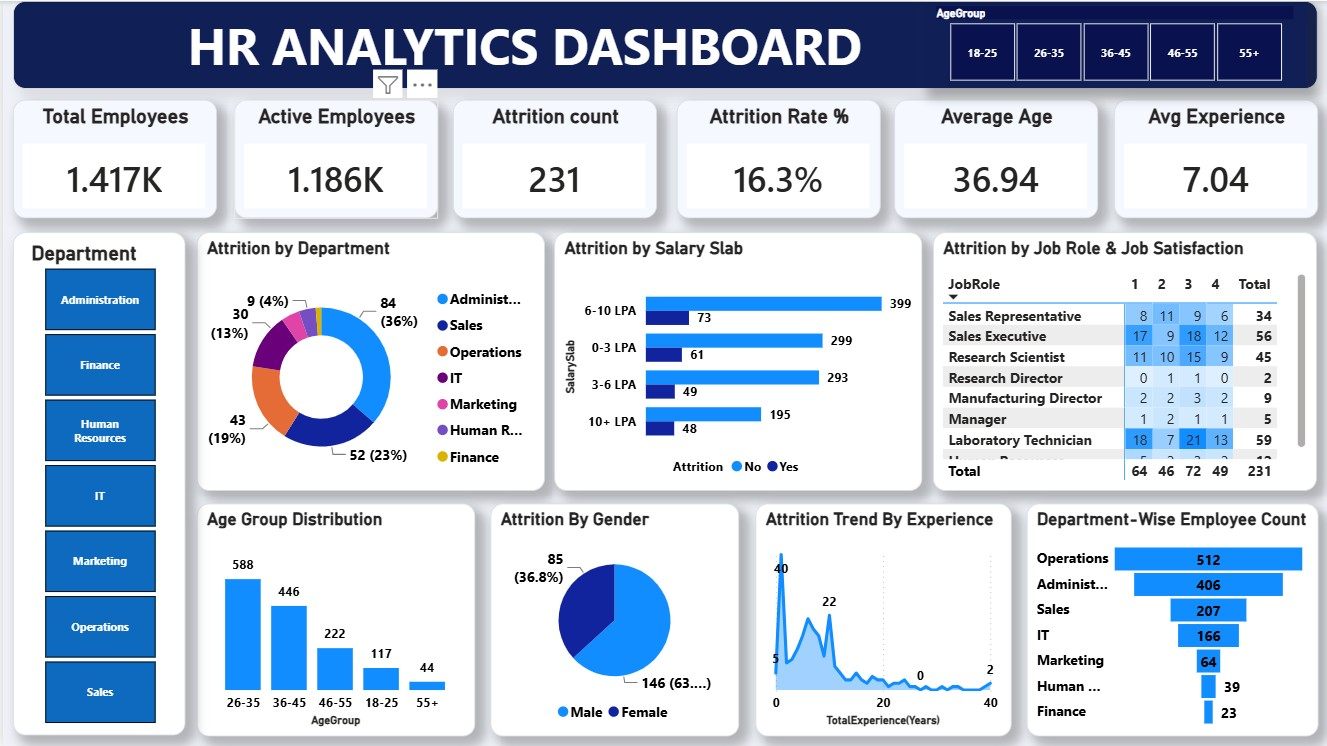

The page's visual inventory and layout, read from the dashboard file:
{"tool":"powerbi","page":{"name":"Page 1","canvas":[1280,720],"ordinal":0},"visuals":[{"type":"textbox","box":[10,0,1259,85],"z":0},{"type":"cardVisual","title":"Total Employees","fields":{"Data":["CountNonNull(HR_Analytics.EmpID)"]},"box":[9.7,95.3,196.6,114.6],"z":1000},{"type":"cardVisual","title":"Active Employees","fields":{"Data":["CountNonNull(HR_Analytics.EmployeeCount)"]},"box":[223.2,95.3,196.6,114.6],"z":2000},{"type":"cardVisual","title":"Attrition count","fields":{"Data":["Sum(HR_Analytics.AttritionsCount)"]},"box":[434.3,95.3,196.6,114.6],"z":3000},{"type":"cardVisual","title":"Attrition Rate %","fields":{"Data":["HR_Analytics.Attrition Rate %"]},"box":[650.3,95.3,196.6,114.6],"z":4000},{"type":"cardVisual","title":"Average Age","fields":{"Data":["Avg(HR_Analytics.Age)"]},"box":[860.2,95.3,196.6,114.6],"z":5000},{"type":"cardVisual","title":"Avg Experience","fields":{"Data":["Avg(HR_Analytics.YearsatCompany)"]},"box":[1072.5,95.3,196.6,114.6],"z":6000},{"type":"donutChart","title":"Attrition by Department","fields":{"Category":["HR_Analytics.Department"],"Y":["Sum(HR_Analytics.AttritionsCount)"]},"box":[186.6,223.7,336.2,249.7],"z":7000},{"type":"clusteredBarChart","title":"Attrition by Salary Slab","fields":{"Category":["HR_Analytics.SalarySlab"],"Y":["CountNonNull(HR_Analytics.EmpID)"],"Series":["HR_Analytics.Attrition"]},"box":[532.4,223.7,355.4,249.7],"z":8000},{"type":"pivotTable","title":"Attrition by Job Role & Job Satisfaction","fields":{"Rows":["HR_Analytics.JobRole"],"Values":["Sum(HR_Analytics.AttritionsCount)"],"Columns":["HR_Analytics.JobSatisfaction"]},"box":[897.4,223.7,370.5,249.7],"z":9000},{"type":"columnChart","title":"Age Group Distribution","fields":{"Category":["HR_Analytics.AgeGroup"],"Y":["Sum(HR_Analytics.EmployeeCount)"]},"box":[186.6,484.4,269,225],"z":10000},{"type":"pieChart","title":"Attrition By Gender","fields":{"Category":["HR_Analytics.Gender"],"Y":["Sum(HR_Analytics.AttritionsCount)"]},"box":[470.7,484.4,240.1,225],"z":11000},{"type":"areaChart","title":"Attrition Trend By Experience","fields":{"Category":["HR_Analytics.TotalExperience(Years)"],"Y":["Sum(HR_Analytics.AttritionsCount)"]},"box":[725.9,484.4,247,225],"z":12000},{"type":"funnel","title":"Department-Wise Employee Count","fields":{"Category":["HR_Analytics.Department"],"Y":["CountNonNull(HR_Analytics.EmpID)"]},"box":[988,484.4,281.3,225],"z":13000},{"type":"slicer","fields":{"Values":["HR_Analytics.Department"]},"box":[9.6,223.7,166,485.8],"z":14000},{"type":"slicer","fields":{"Values":["HR_Analytics.AgeGroup"]},"box":[887.8,0,370.5,83.7],"z":15000}]}

Visuals, with their boxes in screenshot pixels (x1, y1, x2, y2), scaled from the page's 1280x720 canvas onto the 1327x746 screenshot:
textbox: (left=10, top=0, right=1316, bottom=88)
"Total Employees" cardVisual: (left=10, top=99, right=214, bottom=217)
"Active Employees" cardVisual: (left=231, top=99, right=435, bottom=217)
"Attrition count" cardVisual: (left=450, top=99, right=654, bottom=217)
"Attrition Rate %" cardVisual: (left=674, top=99, right=878, bottom=217)
"Average Age" cardVisual: (left=892, top=99, right=1096, bottom=217)
"Avg Experience" cardVisual: (left=1112, top=99, right=1316, bottom=217)
"Attrition by Department" donutChart: (left=193, top=232, right=542, bottom=490)
"Attrition by Salary Slab" clusteredBarChart: (left=552, top=232, right=920, bottom=490)
"Attrition by Job Role & Job Satisfaction" pivotTable: (left=930, top=232, right=1314, bottom=490)
"Age Group Distribution" columnChart: (left=193, top=502, right=472, bottom=735)
"Attrition By Gender" pieChart: (left=488, top=502, right=737, bottom=735)
"Attrition Trend By Experience" areaChart: (left=753, top=502, right=1009, bottom=735)
"Department-Wise Employee Count" funnel: (left=1024, top=502, right=1316, bottom=735)
slicer - HR_Analytics.Department: (left=10, top=232, right=182, bottom=735)
slicer - HR_Analytics.AgeGroup: (left=920, top=0, right=1305, bottom=87)
